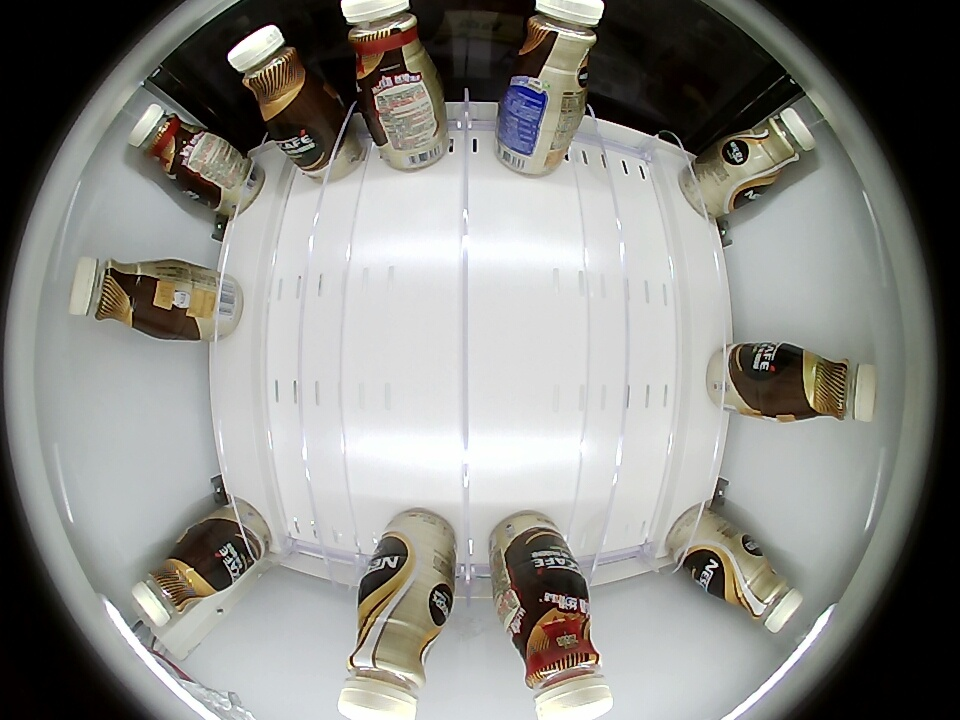kafei: (336, 592, 456, 720), (495, 593, 613, 720), (226, 25, 319, 130), (343, 0, 440, 90), (767, 345, 878, 423), (132, 535, 223, 628), (508, 0, 603, 86), (720, 543, 804, 633), (68, 256, 169, 330), (732, 108, 818, 188), (127, 104, 207, 180)
